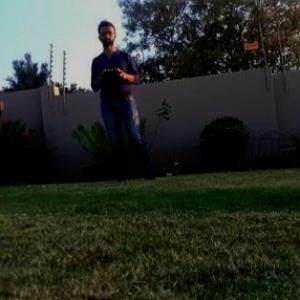follow: (88, 12, 162, 184)
